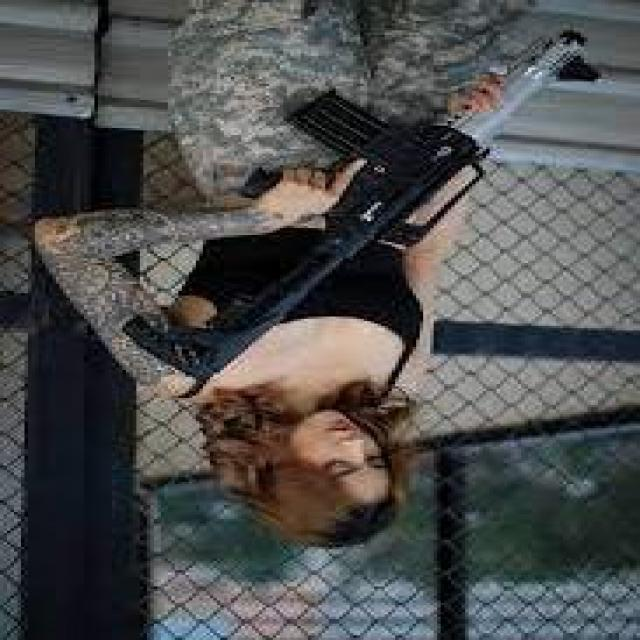weapon: (120, 30, 605, 400)
